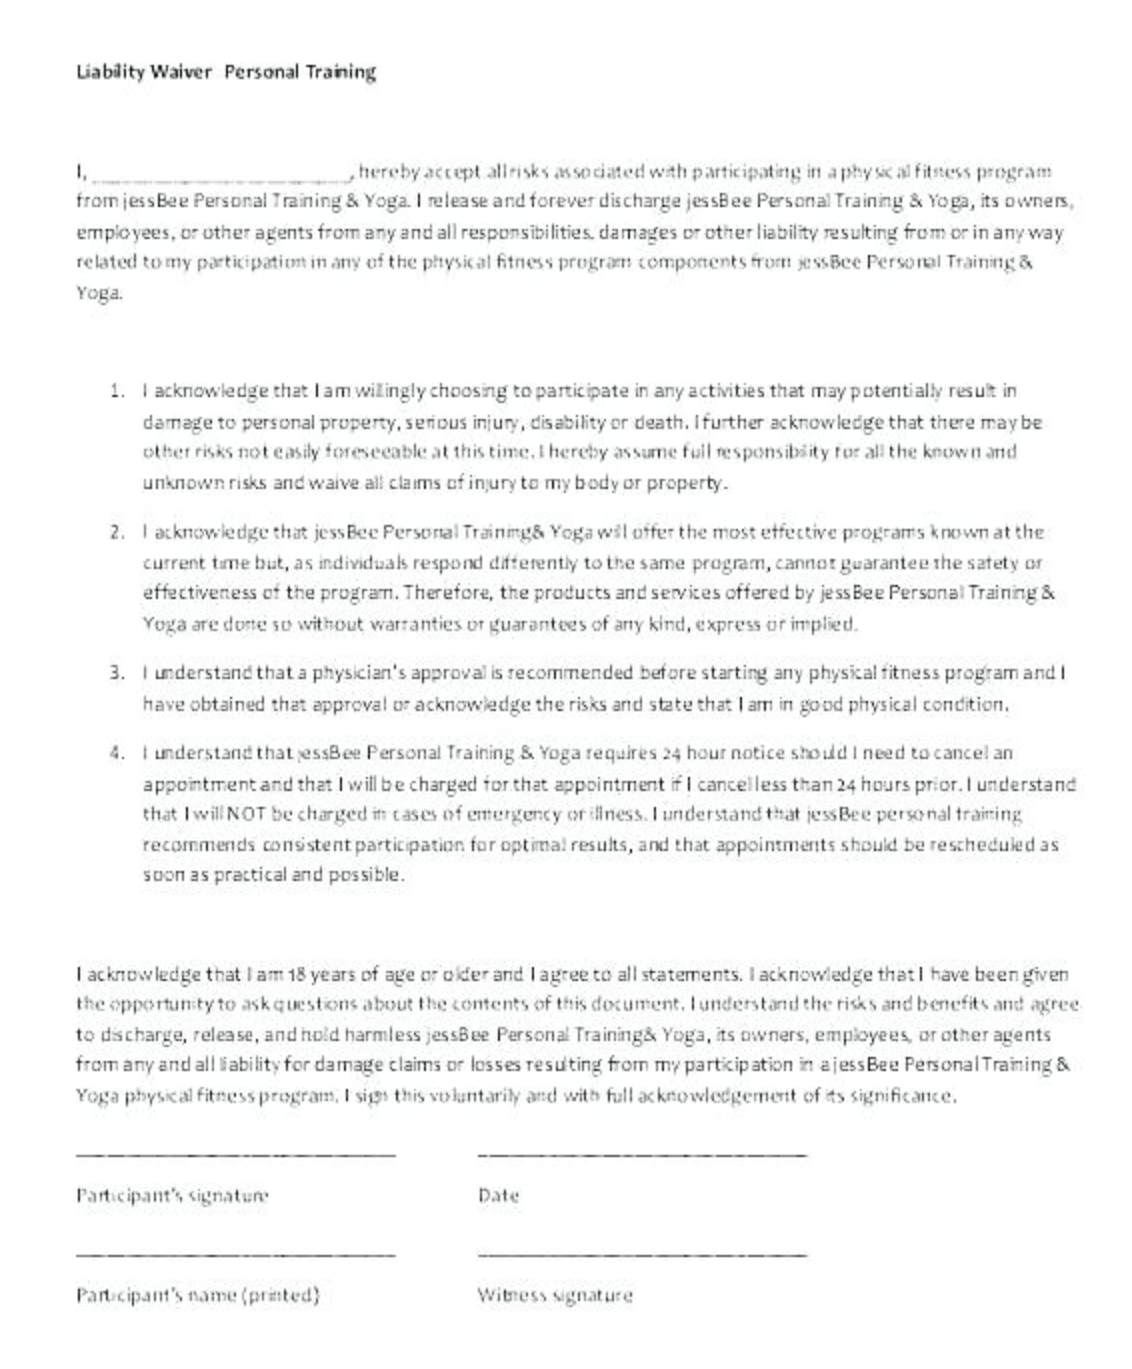textline: (460, 1229, 819, 1277), (459, 1127, 826, 1170), (69, 1127, 408, 1170), (66, 1230, 406, 1271), (86, 149, 357, 191)
